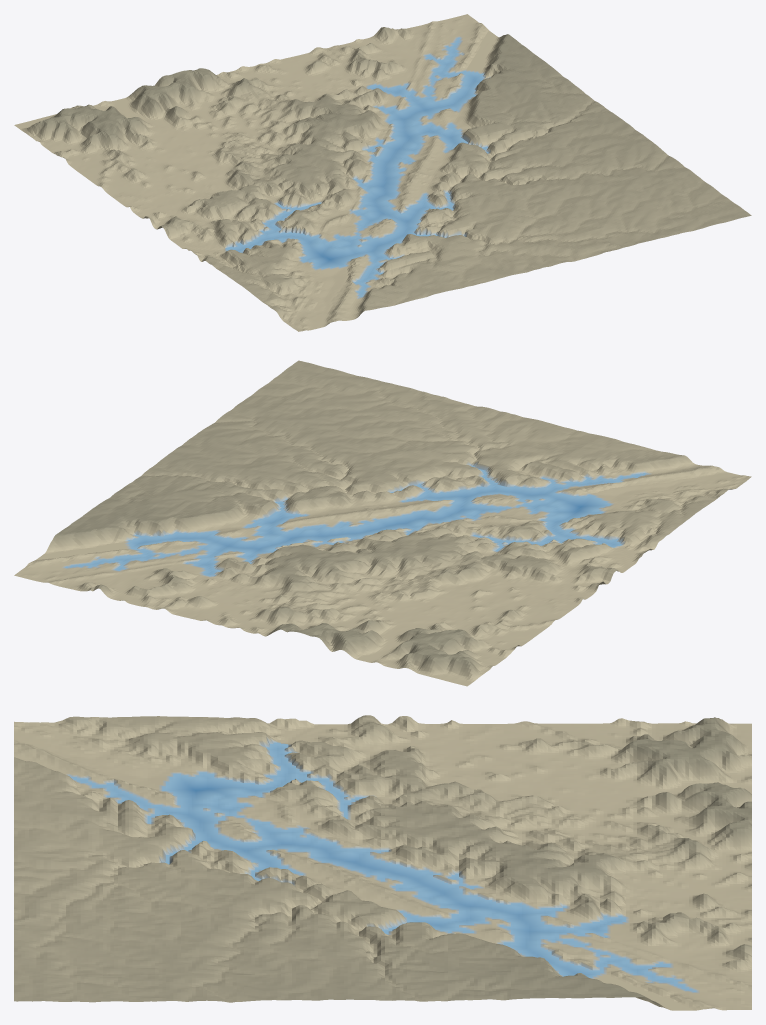
The model's file is lake_guntersville_al.glb.
The picture shows the model from 3 angles, top to bottom: view 1: azimuth 30°, elevation 25°; view 2: azimuth 150°, elevation 25°; view 3: azimuth 270°, elevation 25°; orthographic projection. The views are drawn at different scales.
Parts seen in each view (by area): view 1: terrain, water; view 2: terrain, water; view 3: terrain, water.
Part boxes in pixels (box(x1,y1,x2,y2)): terrain: box(14, 14, 751, 331); water: box(225, 37, 488, 296); terrain: box(14, 360, 751, 686); water: box(65, 465, 645, 576); terrain: box(14, 715, 751, 1010); water: box(70, 742, 696, 991).
Bounding box in the file's own units: 43115 × 1355 × 46869.
